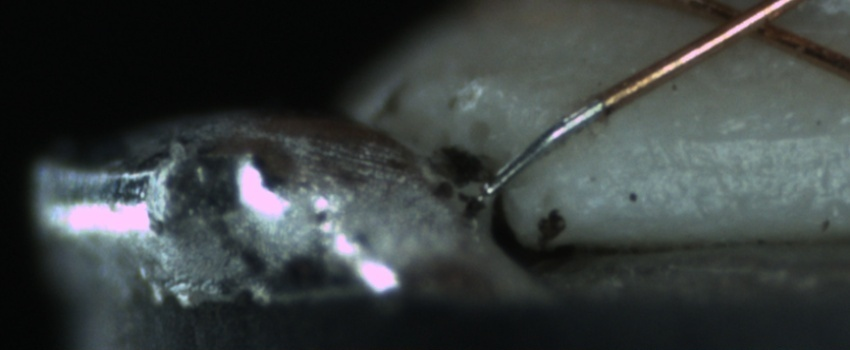CL: (702, 1, 794, 48)
DL: (626, 109, 849, 173)
TS: (485, 98, 606, 194)
TTCW: (489, 76, 635, 188)
